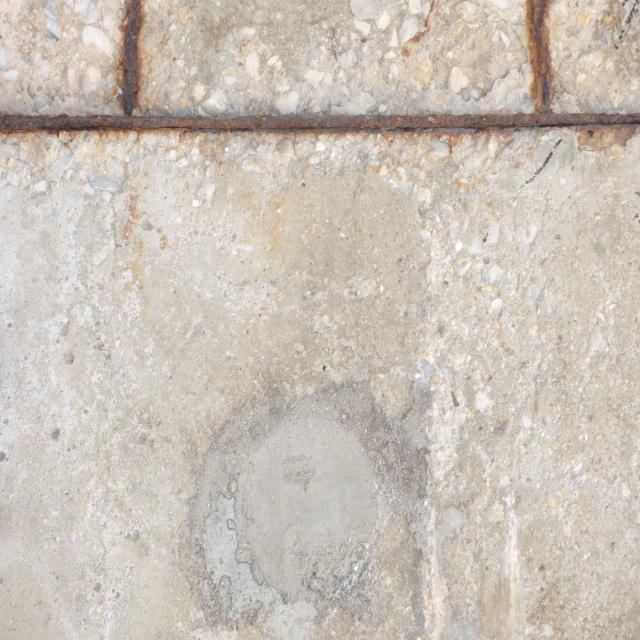corrosion: (0, 0, 636, 166)
